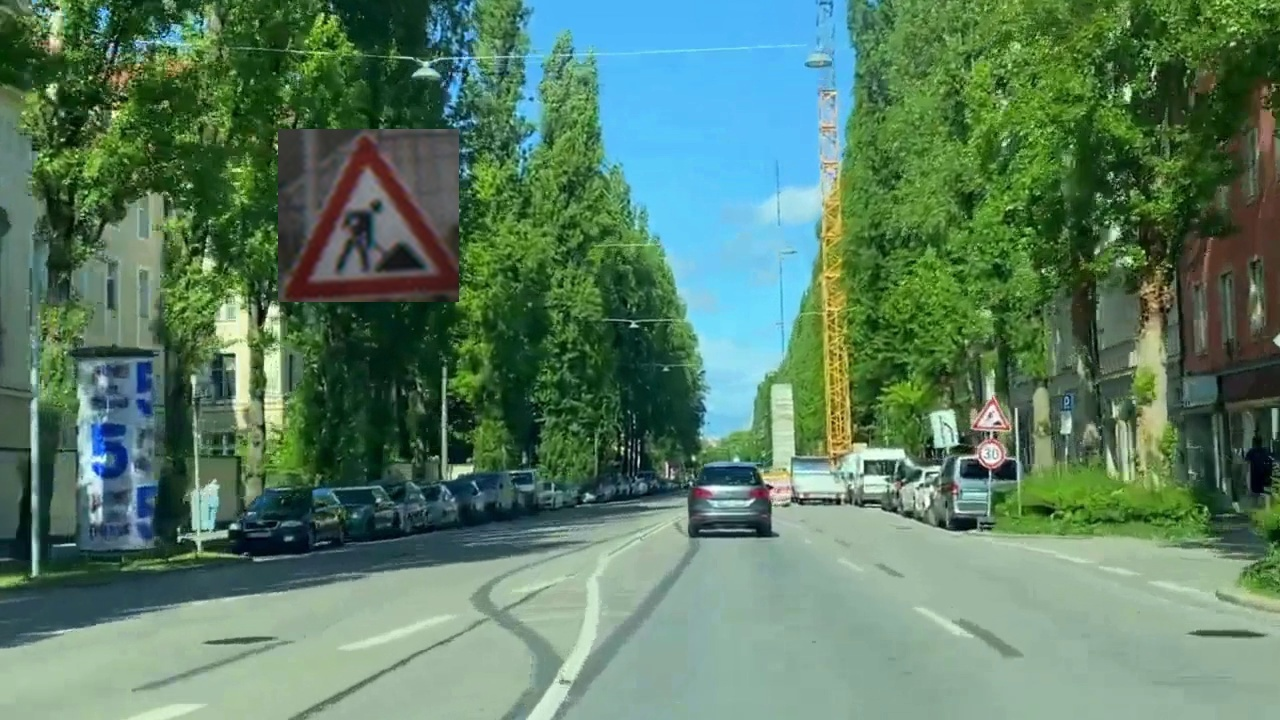Road work: (278, 129, 459, 302)
